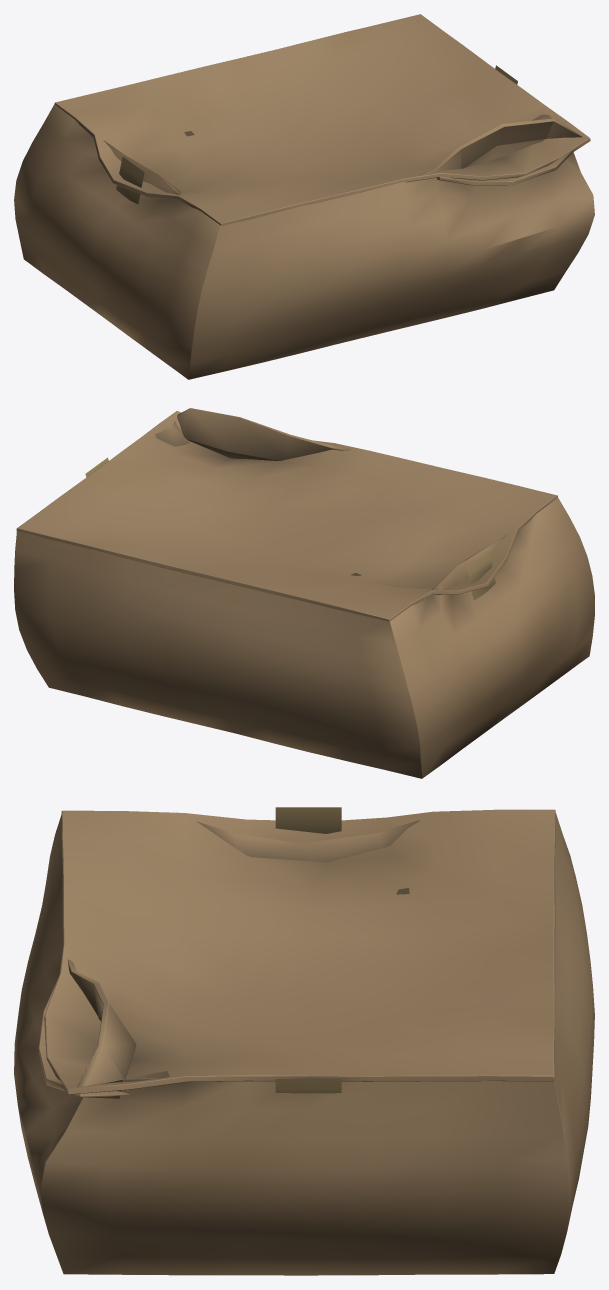
Rendered from box_crushed.glb.
3 renders of one model, top to bottom at view 1: azimuth 30°, elevation 25°; view 2: azimuth 150°, elevation 25°; view 3: azimuth 270°, elevation 25°, orthographic. The views are drawn at different scales.
Visible parts, largest first — view 1: box_crushed; view 2: box_crushed; view 3: box_crushed.
Part boxes in pixels (x1,y1,x2,y2): box_crushed: (14,14,594,379); box_crushed: (14,408,594,778); box_crushed: (14,807,594,1275).
Size of the model in its own units: 0.5332 by 0.199 by 0.4253.
